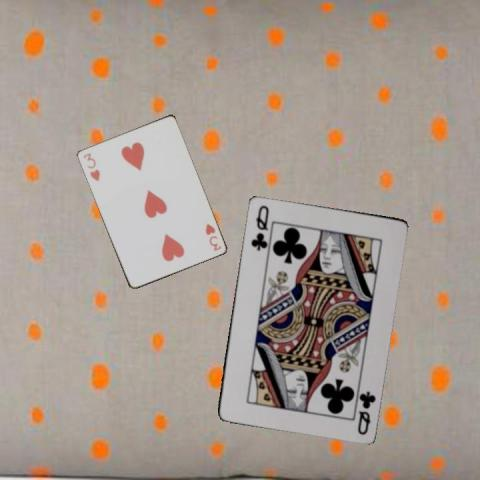3h: (80, 150, 101, 183), (202, 220, 223, 252)
Qc: (354, 388, 377, 436), (248, 202, 270, 252)
